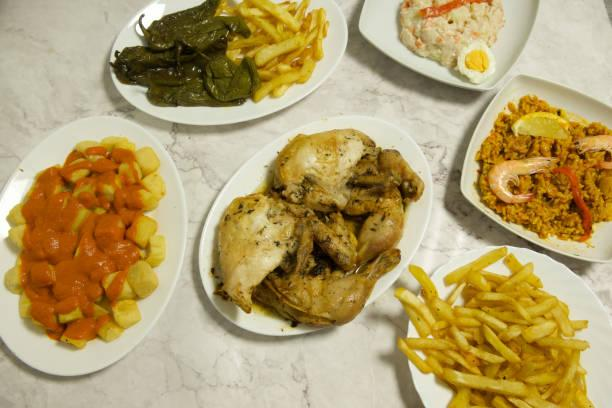Braised Crucian Carp: (199, 115, 428, 335), (1, 114, 186, 377), (405, 246, 612, 407), (111, 0, 342, 127), (461, 75, 611, 259)
